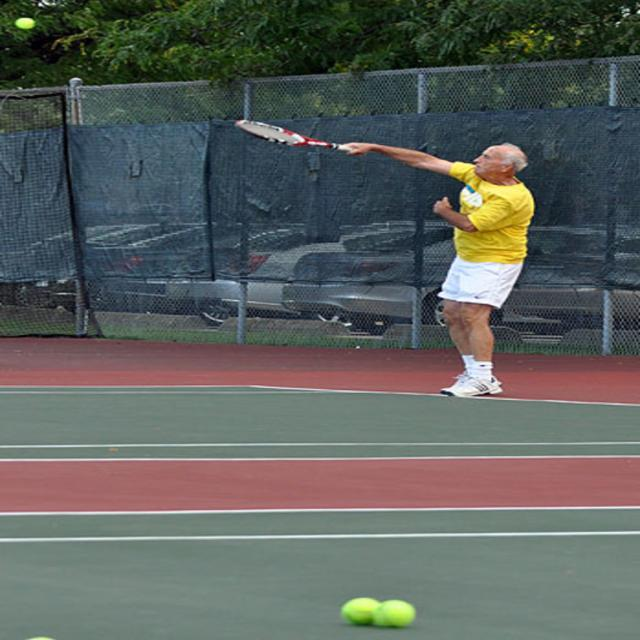Tennis ball: (368, 600, 414, 626), (340, 596, 374, 624), (18, 17, 40, 29)
